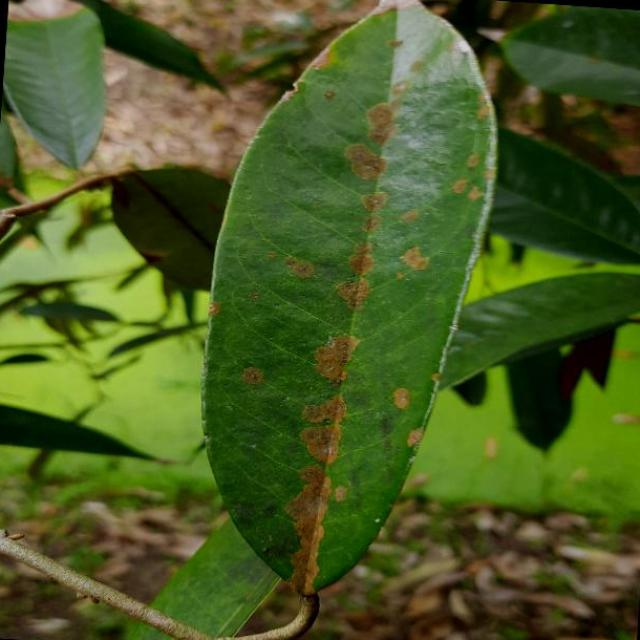Algal Leaf Spot: (172, 0, 516, 640)
